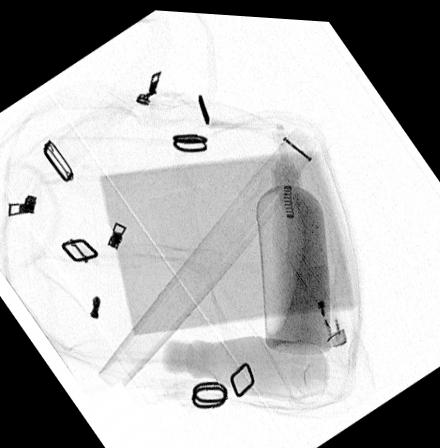Lighter: (299, 261, 347, 344)
